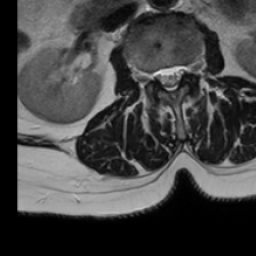CCS_normal: (165, 56, 174, 100)
LFS_normal: (184, 53, 195, 85)
LLS_normal: (174, 54, 184, 90)
RFS_stenosis: (146, 60, 155, 90)
RLS_normal: (155, 60, 165, 90)
